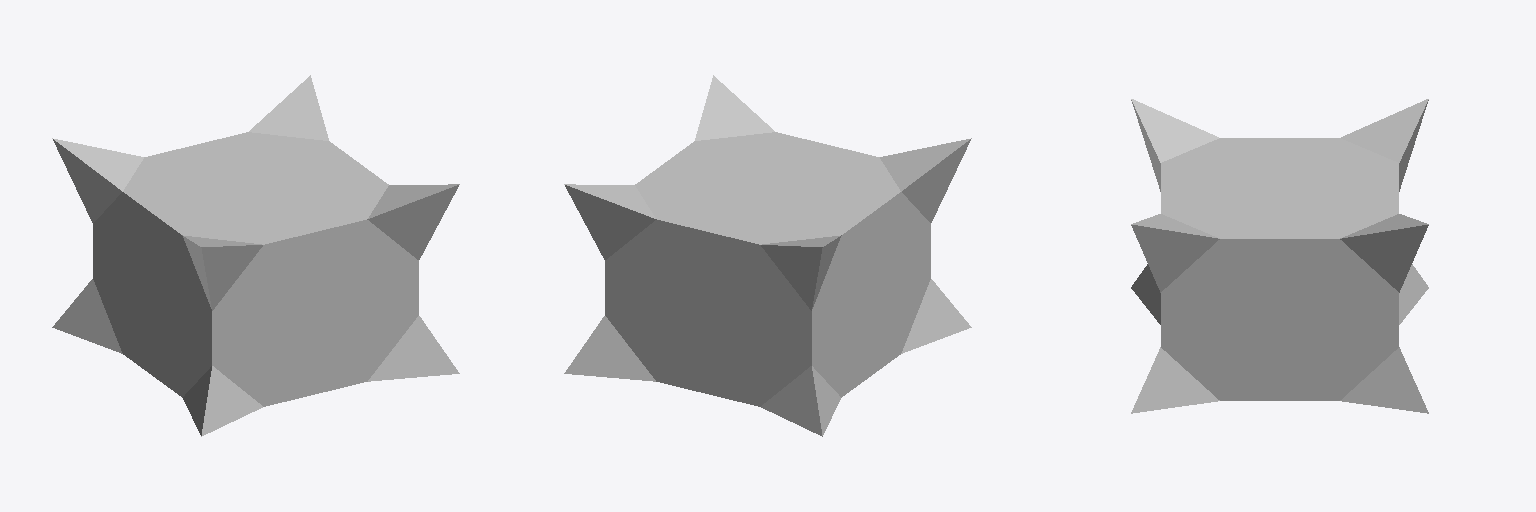
Rendered from Tekki.obj.
3 renders of one model, left to right at view 1: azimuth 30°, elevation 25°; view 2: azimuth 150°, elevation 25°; view 3: azimuth 270°, elevation 25°, orthographic.
Visible parts, largest first — view 1: Cube; view 2: Cube; view 3: Cube.
Part boxes in pixels (bbox=[...]): Cube: bbox=[52, 75, 459, 436]; Cube: bbox=[564, 75, 971, 436]; Cube: bbox=[1131, 99, 1428, 413].
Bounding box in the file's own units: 1 × 0.7 × 1.